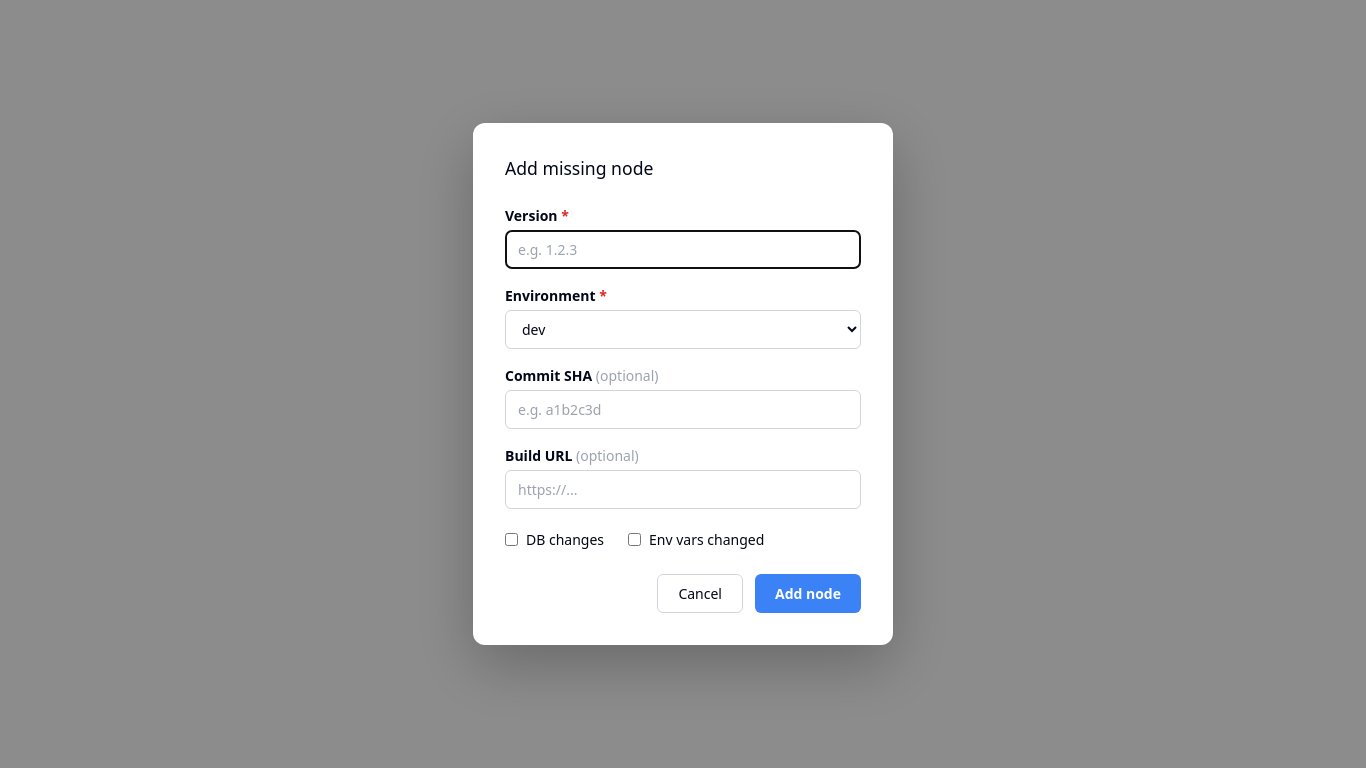
Scenario: AddNodeModal › clears the version error when user edits the field again
Type "bad" into the field with placeholder "e.g. 1.2.3" at (683,250), box [505,230,861,269]
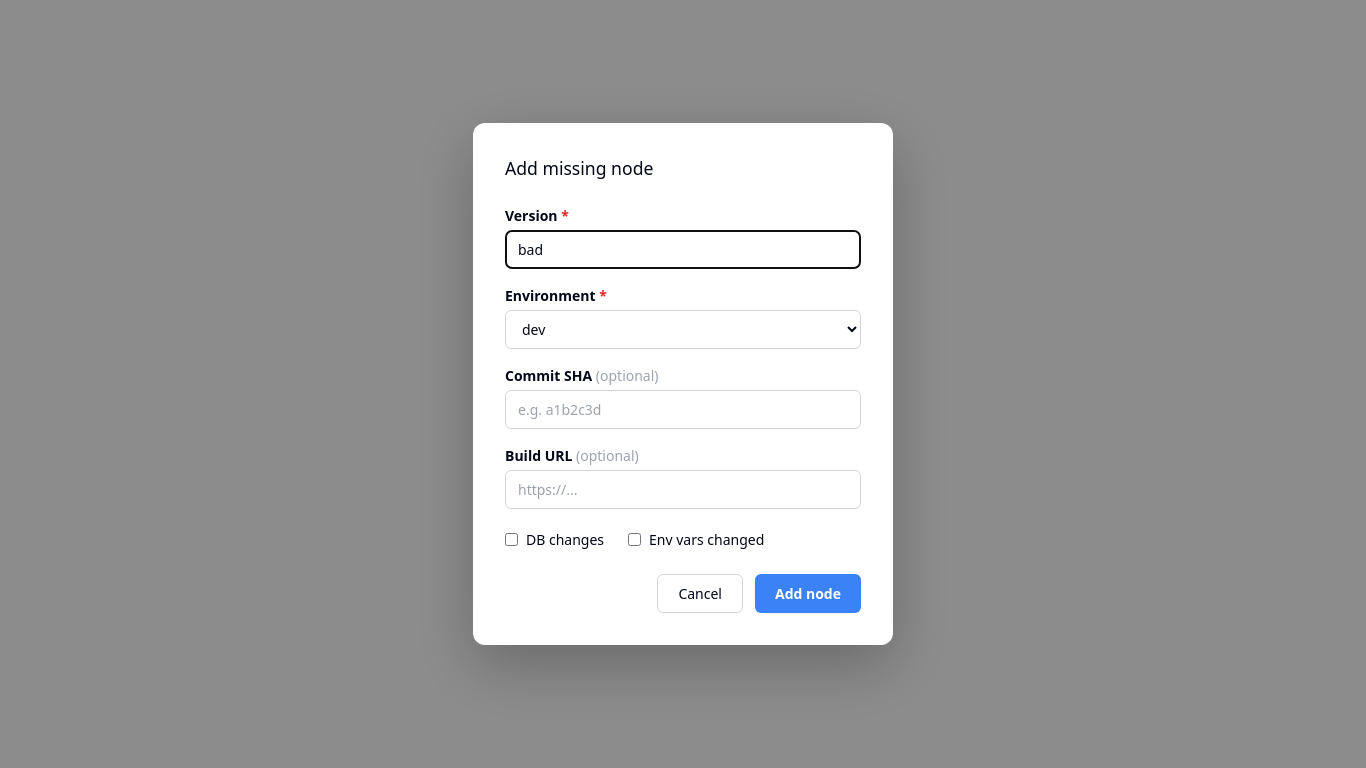
Click the button "Add node" at (808,594), box [755,574,861,613]
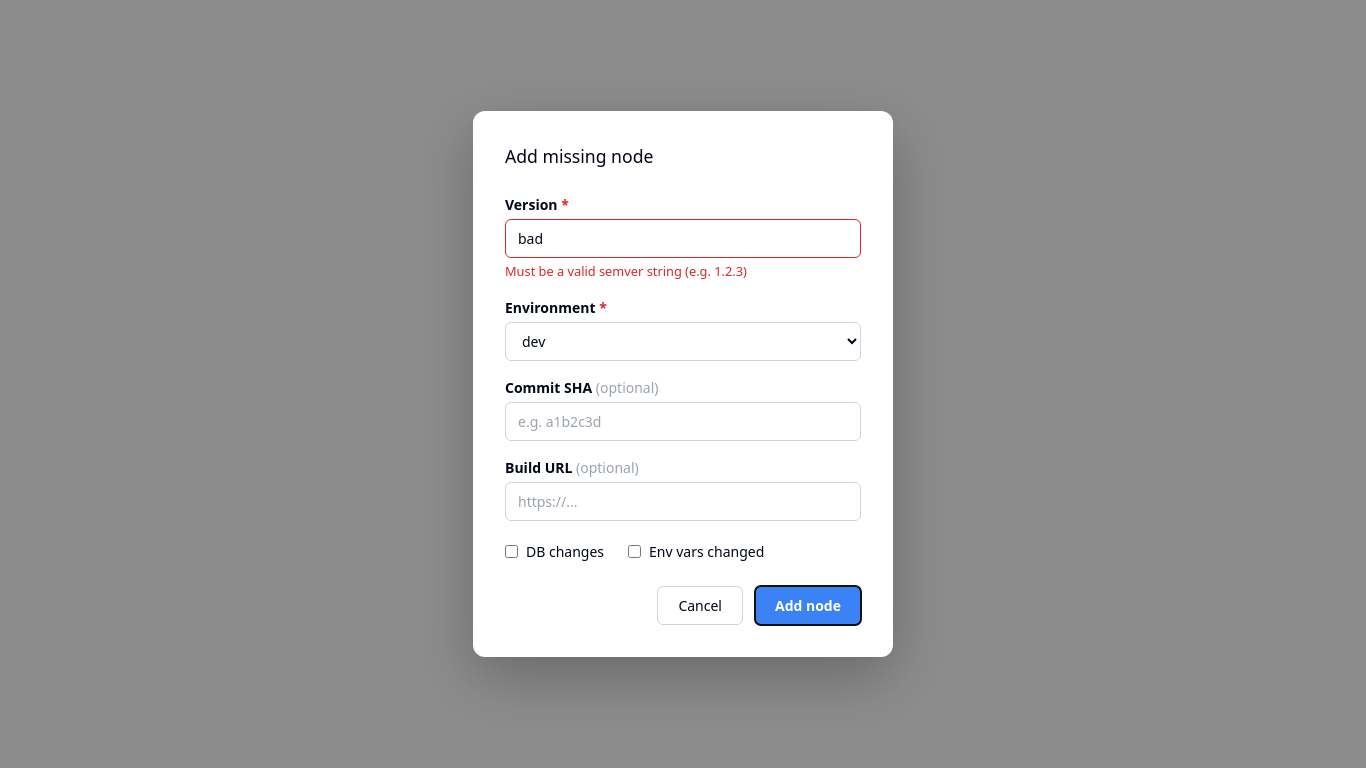
expect the text "Must be a valid semver string (e.g. 1.2.3)" is shown: met, box [505,262,747,280]
Type "1" into the field with placeholder "e.g. 1.2.3" at (683,238), box [505,219,861,258]
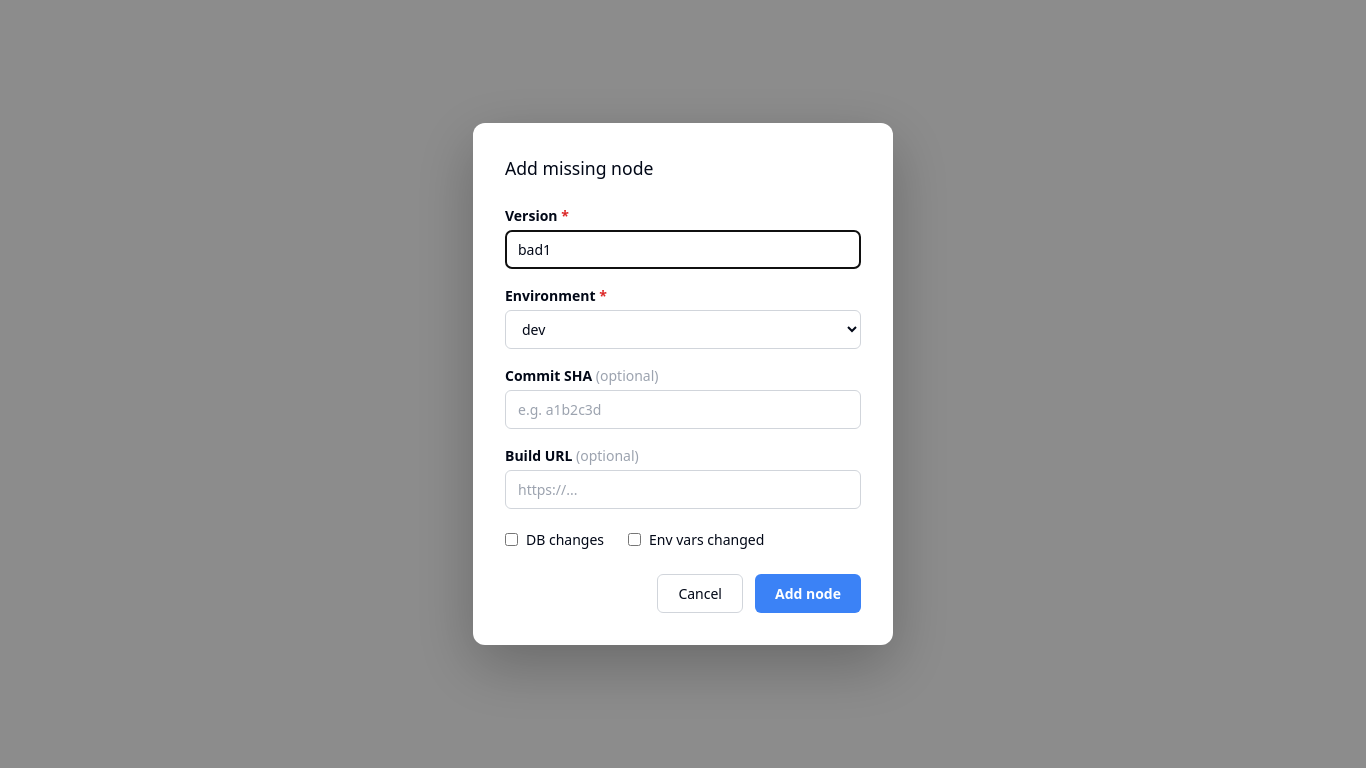
expect the text "valid semver" is gone: met
